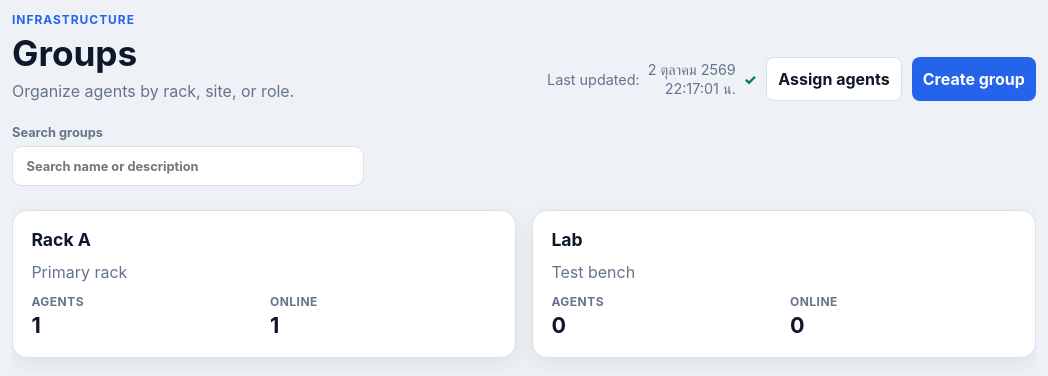
it: Groups page › searches groups by name
expect the link "Rack A" is shown: met, box [31,229,91,250]
Step 1. Type "Lab" into the search field labelled "Search groups" → (188, 166), box [12,146,364,186]
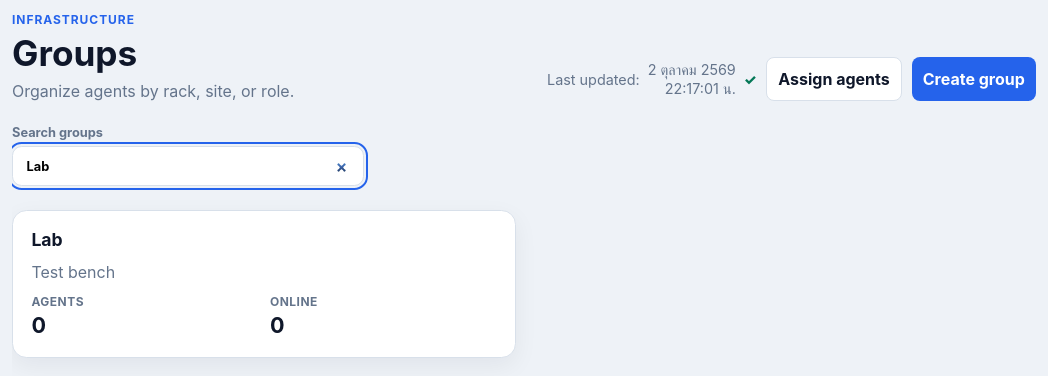
expect the link "Lab" is shown: met, box [31,229,63,250]
expect the link "Rack A" is gone: met
